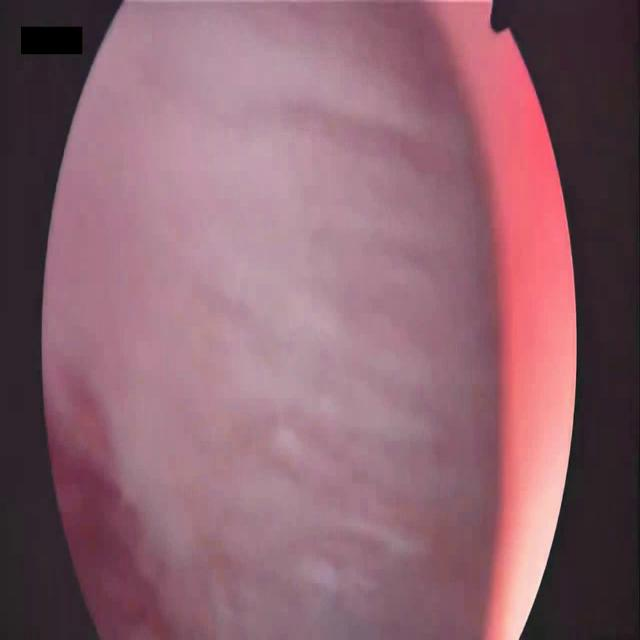surgical-area: (38, 0, 580, 639)
